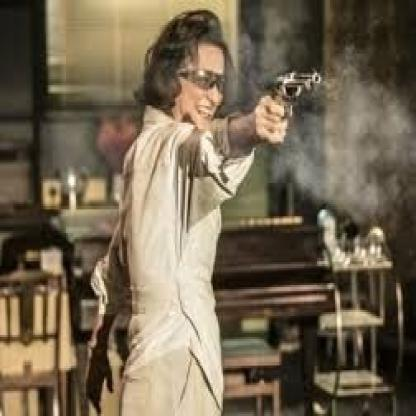Pistol: (261, 67, 319, 115)
